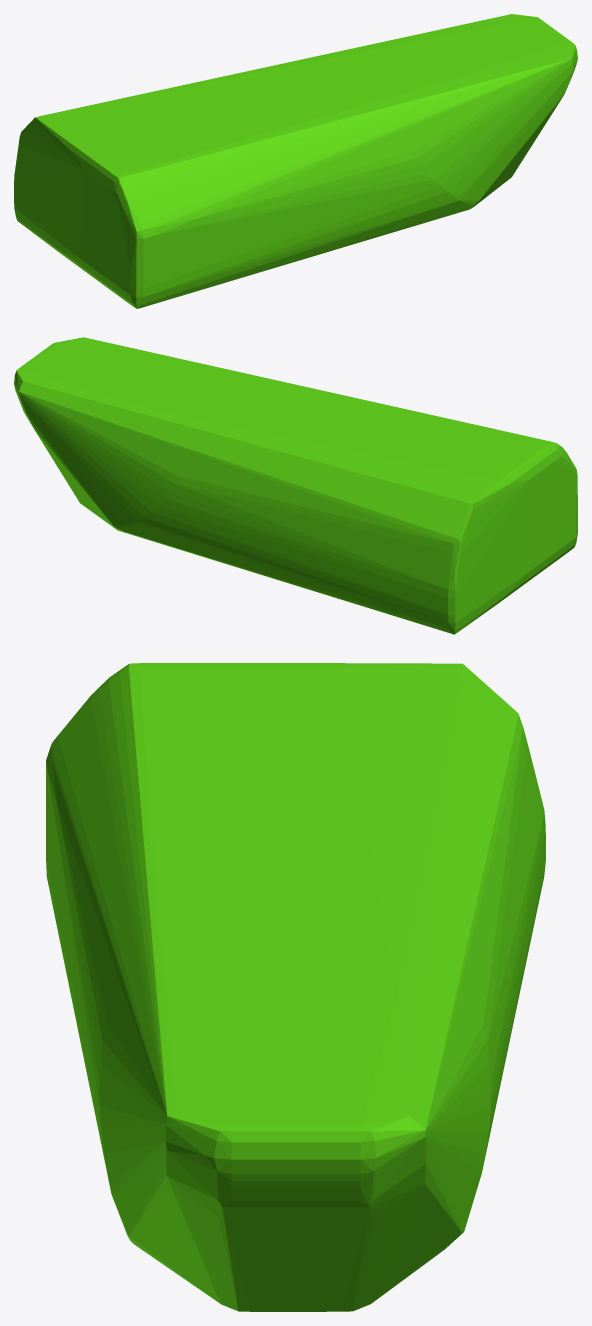
The model's file is left-shin-0_part_17.obj.
3 views of the same model, one above another, from view 1: azimuth 30°, elevation 25°; view 2: azimuth 150°, elevation 25°; view 3: azimuth 270°, elevation 25° (orthographic). The views are drawn at different scales.
Size of the model in its own units: 0.1452 by 0.0338 by 0.0646.
